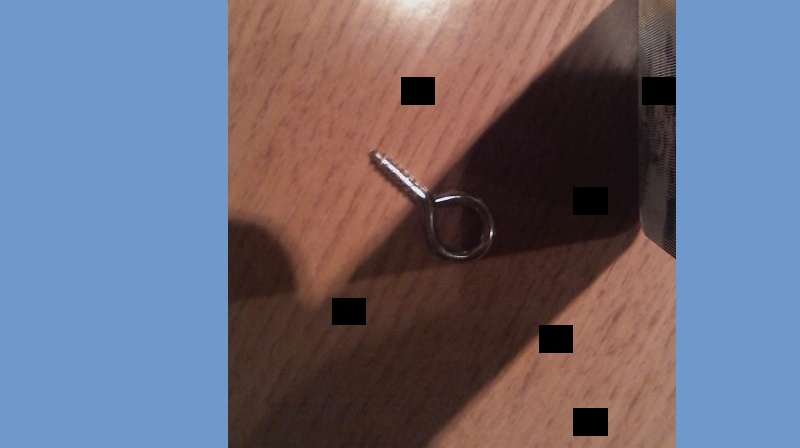O001: (366, 148, 496, 265)
